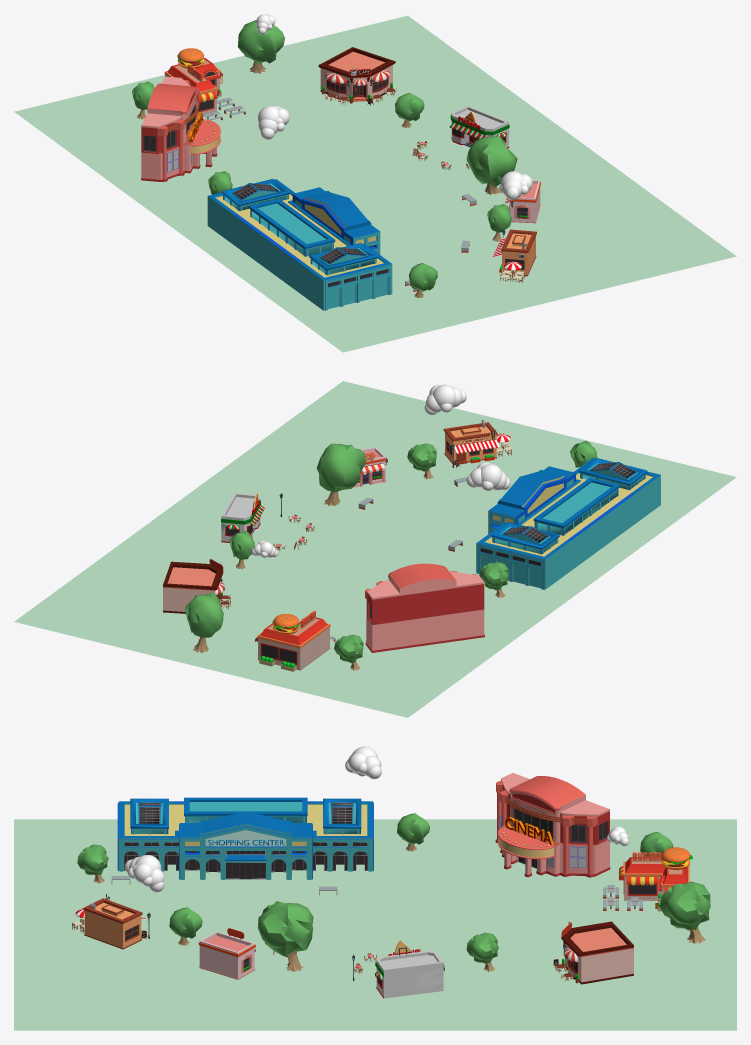
Rendered from busimall.glb.
3 views of the same model, one above another, from view 1: azimuth 30°, elevation 25°; view 2: azimuth 150°, elevation 25°; view 3: azimuth 270°, elevation 25° (orthographic). The views are drawn at different scales.
Parts seen in each view (by area): view 1: ground, ShoppingCenterBuilding, Cinema, CafeBuilding, BurgerBuilding, tree_3, yun, PizzaBuilding, RestaurantBuilding, tree_5, ShopBuilding, tree_6 (+2 smaller); view 2: ground, ShoppingCenterBuilding, Cinema, BurgerBuilding, CafeBuilding, RestaurantBuilding, yun, tree_3, PizzaBuilding, tree_5, ShopBuilding, tree_4 (+3 smaller); view 3: ground, ShoppingCenterBuilding, Cinema, CafeBuilding, BurgerBuilding, PizzaBuilding, tree_3, RestaurantBuilding, yun, ShopBuilding, tree_5, tree_2 (+4 smaller).
Boxes of the visible parts, bbox=[...] form: ground: bbox=[14, 15, 736, 352]; ShoppingCenterBuilding: bbox=[207, 179, 392, 310]; Cinema: bbox=[141, 76, 220, 181]; CafeBuilding: bbox=[318, 47, 396, 105]; BurgerBuilding: bbox=[164, 48, 245, 120]; tree_3: bbox=[466, 136, 517, 194]; yun: bbox=[256, 14, 532, 200]; PizzaBuilding: bbox=[450, 105, 509, 148]; RestaurantBuilding: bbox=[492, 229, 536, 282]; tree_5: bbox=[237, 20, 284, 73]; ShopBuilding: bbox=[505, 180, 540, 223]; tree_6: bbox=[409, 263, 437, 298]; ground: bbox=[14, 381, 736, 717]; ShoppingCenterBuilding: bbox=[476, 458, 660, 589]; Cinema: bbox=[365, 563, 484, 652]; BurgerBuilding: bbox=[255, 611, 335, 671]; CafeBuilding: bbox=[163, 559, 230, 613]; RestaurantBuilding: bbox=[443, 419, 512, 467]; yun: bbox=[251, 384, 510, 557]; tree_3: bbox=[316, 443, 365, 505]; PizzaBuilding: bbox=[221, 493, 264, 542]; tree_5: bbox=[185, 593, 223, 652]; ShopBuilding: bbox=[353, 447, 387, 487]; tree_4: bbox=[334, 634, 363, 670]; ground: bbox=[14, 819, 736, 1030]; ShoppingCenterBuilding: bbox=[117, 797, 373, 879]; Cinema: bbox=[495, 773, 610, 877]; CafeBuilding: bbox=[553, 920, 633, 984]; BurgerBuilding: bbox=[603, 847, 692, 911]; PizzaBuilding: bbox=[375, 940, 444, 998]; tree_3: bbox=[257, 901, 313, 971]; RestaurantBuilding: bbox=[72, 894, 150, 949]; yun: bbox=[124, 746, 628, 892]; ShopBuilding: bbox=[198, 928, 255, 979]; tree_5: bbox=[660, 881, 710, 943]; tree_2: bbox=[466, 932, 498, 971].
Bounding box in the file's own units: 72.99 × 19.84 × 106.
Materials: 5 (1 with a texture image).
